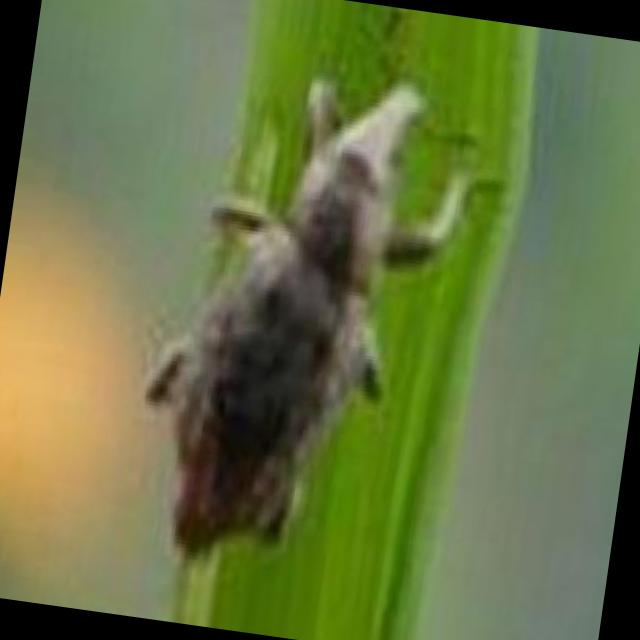rice-bug: (116, 45, 462, 586)
